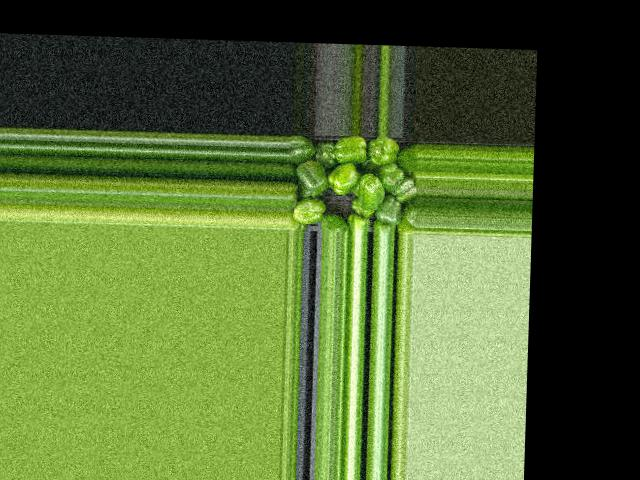bell_pepper: (397, 150, 419, 178)
